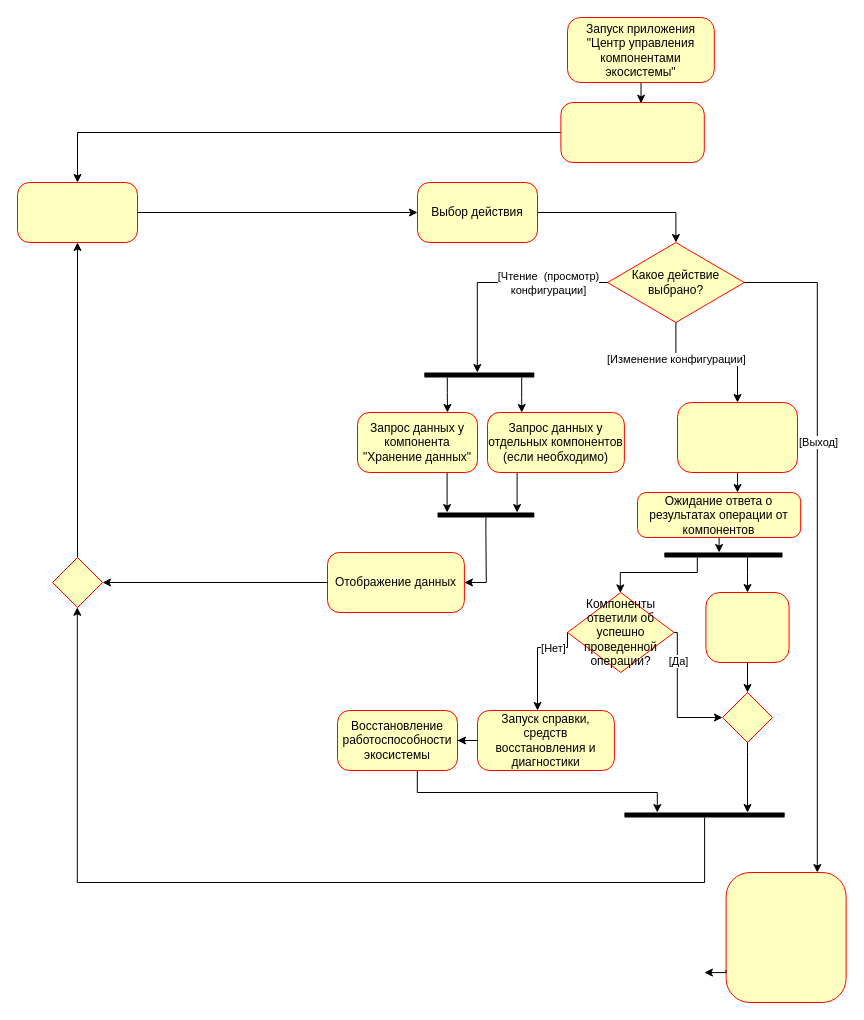
Some shapes in this 864 by 1020 pixel diagram are drawn without their labels. Each missing label, with the centre of its shape:
Выбор доступного действия: point 77,212
Завершение работы приложения "Центр управления компонентами экосистемы": point 785,937
Отправка запроса на изменения данных: point 737,437
Отправка статуса операции пользователю: point 747,627
Чтение текущей кофигурации, состояния экосистемы: point 632,132
